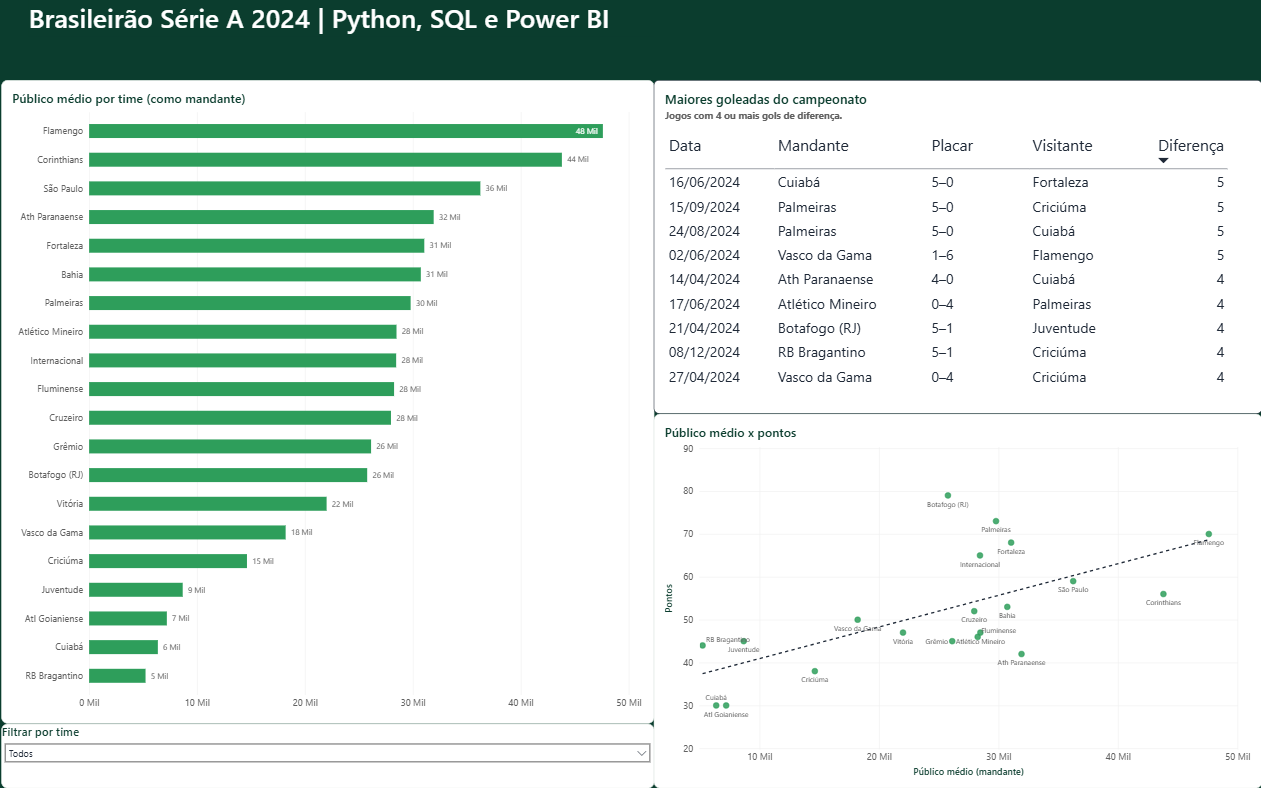

This screenshot's page, from the dashboard's own definition file:
{"tool":"powerbi","page":{"name":"Público e curiosidades","canvas":[1920,1200],"ordinal":2},"visuals":[{"type":"clusteredBarChart","title":"Público médio por time (como mandante)","fields":{"Category":["Publico_medio_mandante.time"],"Y":["Sum(Publico_medio_mandante.publico_medio)"]},"box":[1.5,121.6,994,980],"z":0},{"type":"slicer","title":"Filtrar por time","fields":{"Values":["Times.time"]},"box":[1.5,1101.6,994,98],"z":1000},{"type":"tableEx","title":"Maiores goleadas do campeonato","fields":{"Values":["Maior_diferenca_de_gols.data","Maior_diferenca_de_gols.time_casa","Maior_diferenca_de_gols.placar","Maior_diferenca_de_gols.time_visitante","Sum(Maior_diferenca_de_gols.diferenca)"]},"box":[995.5,121.6,926,508],"z":1001},{"type":"scatterChart","title":"Público médio x pontos","fields":{"Category":["Times.time"],"X":["Sum(Publico_medio_mandante.publico_medio)"],"Y":["Sum(Tabela_classificacao.pontos)"]},"box":[995.5,629.6,926,570],"z":1002},{"type":"textbox","title":"Brasileirão Série A 2024 | Python, SQL e Power BI","box":[43.8,0,951.6,55.2],"z":1003}]}

Visuals, with their boxes in screenshot pixels (x1, y1, x2, y2), scaled from the page's 1920x1200 canvas onto the 1261x788 screenshot:
"Público médio por time (como mandante)" clusteredBarChart: rect(1, 80, 654, 723)
"Filtrar por time" slicer: rect(1, 723, 654, 787)
"Maiores goleadas do campeonato" tableEx: rect(654, 80, 1260, 413)
"Público médio x pontos" scatterChart: rect(654, 413, 1260, 787)
"Brasileirão Série A 2024 | Python, SQL e Power BI" textbox: rect(29, 0, 654, 36)
